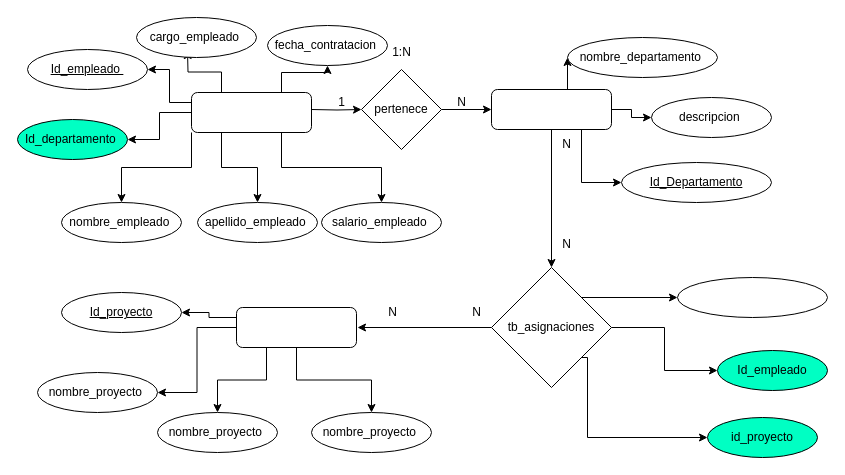
This 845x475 diagram has some shape labels left out. The box of each missing label's shape, as (x1, y1, x2, y2) in pixels:
id_asignacion: (676, 276, 828, 318)
tb_Departamento: (490, 88, 612, 130)
tb_Empleados: (190, 92, 312, 132)
tb_Proyectos: (236, 306, 356, 348)
